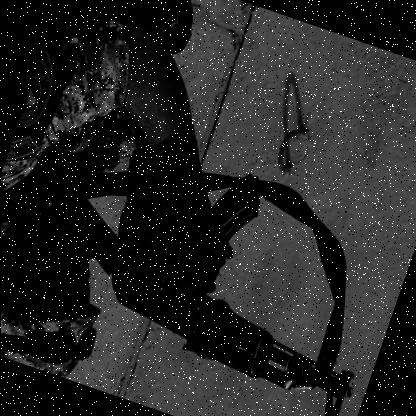rifle: (39, 133, 410, 416)
